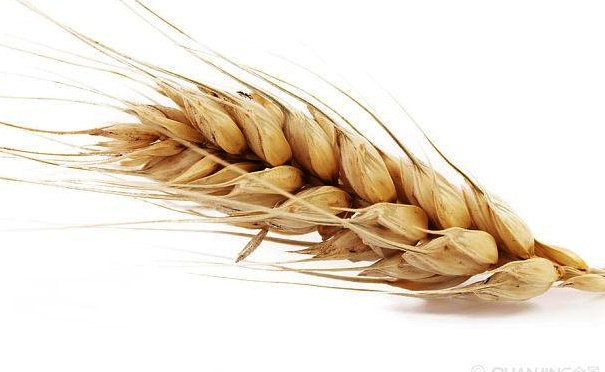wheat: (40, 34, 595, 290)
